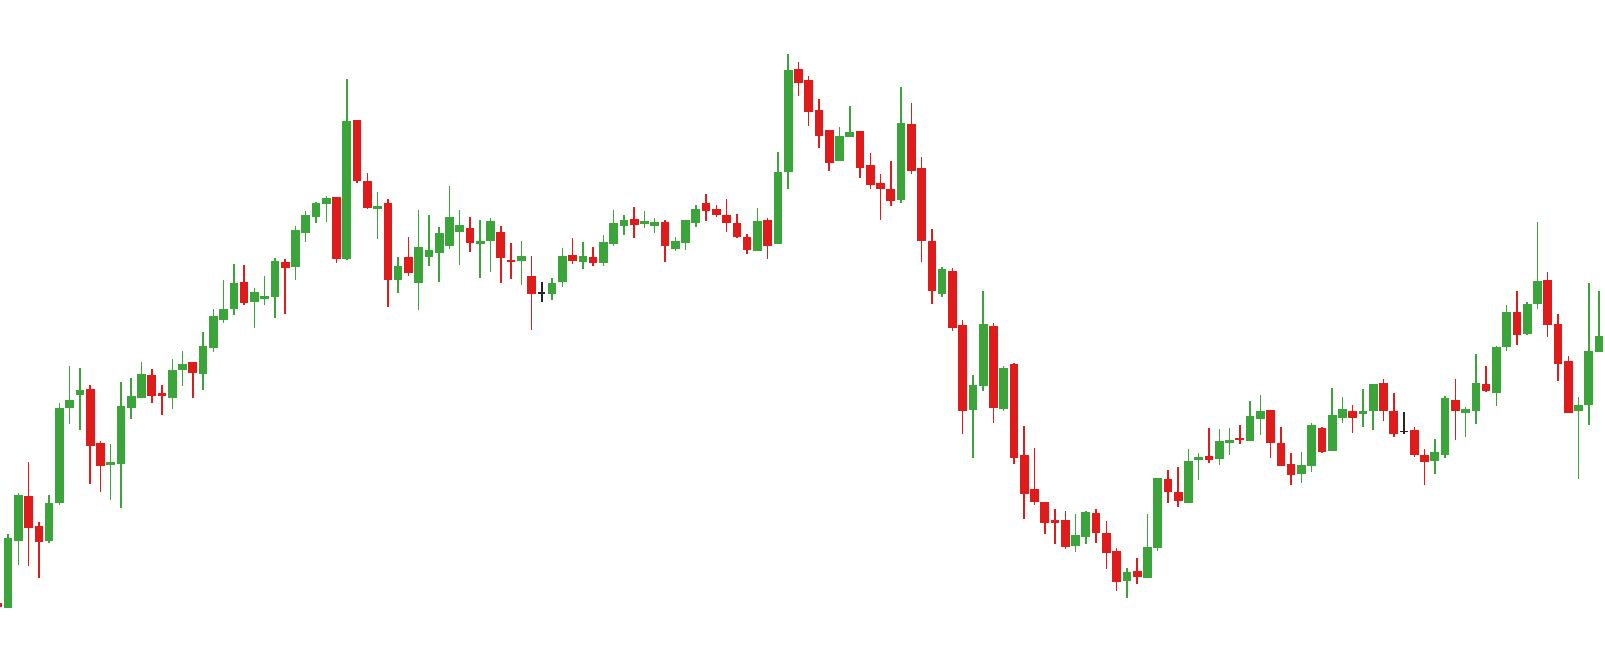buy: (1451, 353, 1584, 486), (1286, 425, 1431, 483)
sell: (341, 53, 802, 187), (845, 87, 919, 196)
